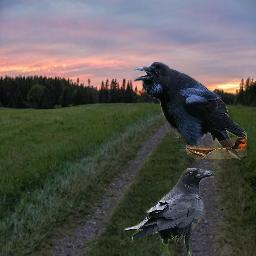Crow: (133, 61, 247, 160), (123, 168, 214, 256)
Swallow: (186, 137, 247, 159)
